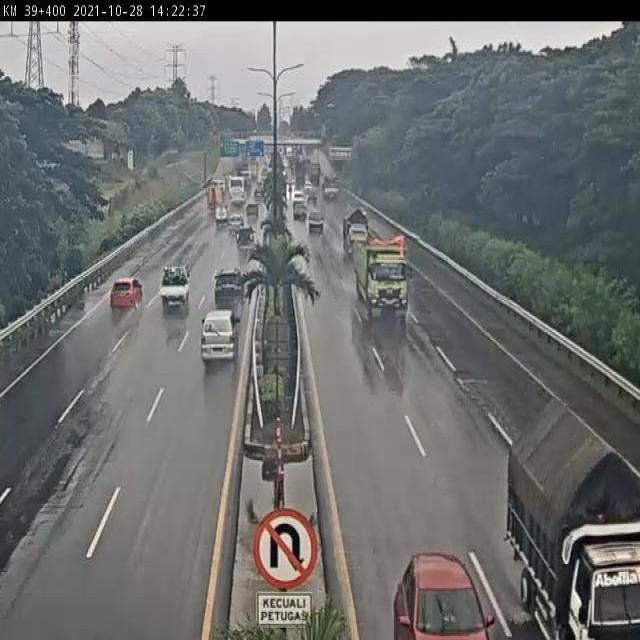car: (160, 262, 191, 306)
truck-l-: (351, 237, 413, 323)
truck-s-: (508, 389, 640, 640), (344, 207, 371, 265)
